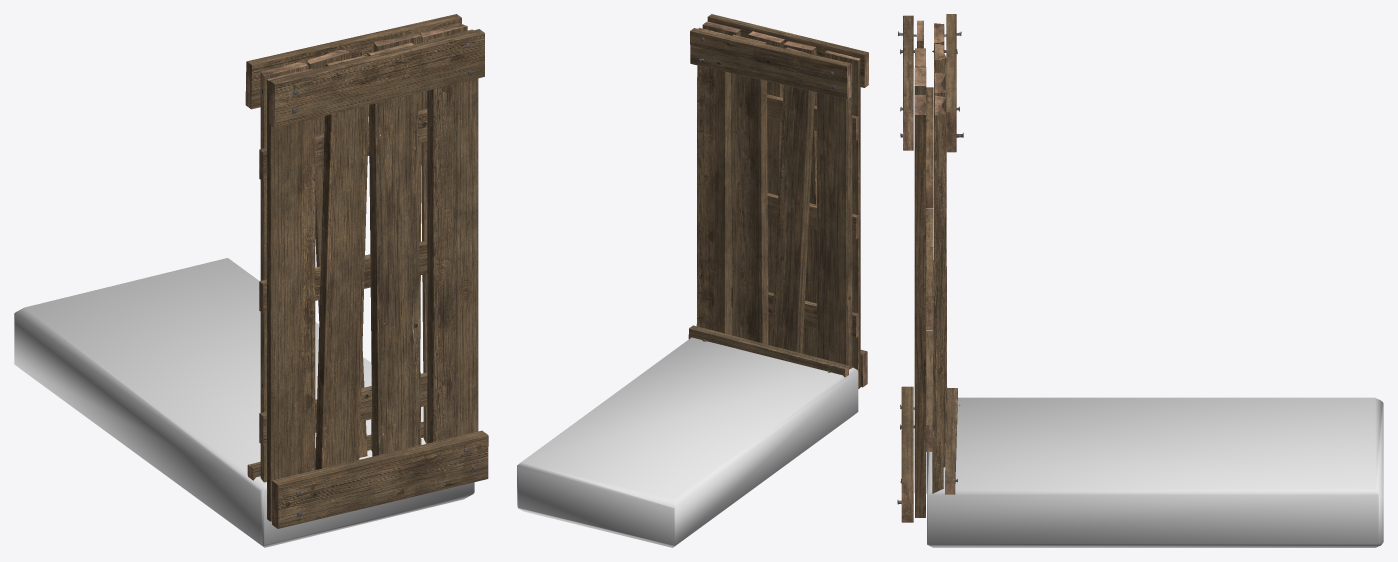
The model's file is SM_Wall_half_A.fbx.
3 views of the same model, side by side, from view 1: azimuth 30°, elevation 25°; view 2: azimuth 150°, elevation 25°; view 3: azimuth 270°, elevation 25° (orthographic). The views are drawn at different scales.
Visible parts, largest first — view 1: SM_Wall_half_A, SM_Wall_half_A_ConvexHulls; view 2: SM_Wall_half_A, SM_Wall_half_A_ConvexHulls; view 3: SM_Wall_half_A_ConvexHulls, SM_Wall_half_A.
Boxes of the visible parts, x1=… form: SM_Wall_half_A: x1=245, y1=14, x2=488, y2=528; SM_Wall_half_A_ConvexHulls: x1=14, y1=258, x2=474, y2=547; SM_Wall_half_A: x1=688, y1=14, x2=868, y2=388; SM_Wall_half_A_ConvexHulls: x1=517, y1=337, x2=858, y2=547; SM_Wall_half_A_ConvexHulls: x1=927, y1=397, x2=1383, y2=547; SM_Wall_half_A: x1=897, y1=14, x2=963, y2=522.
Bounding box in the file's own units: 1.52 × 3.27 × 3.26.
